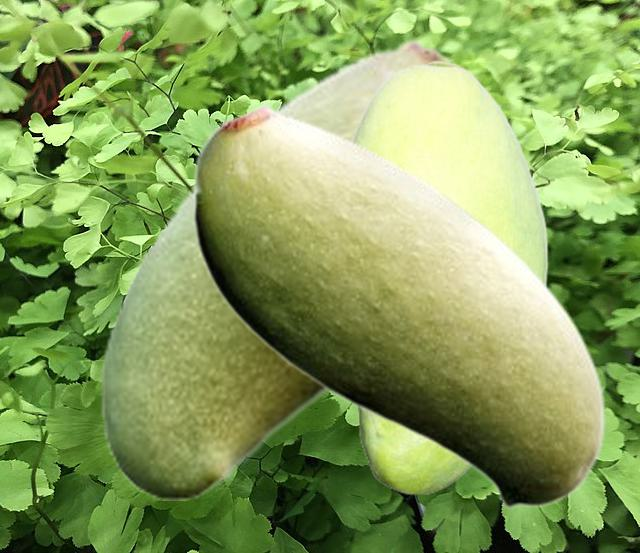green_mango: (99, 37, 495, 499), (192, 102, 605, 509), (350, 60, 547, 494)
